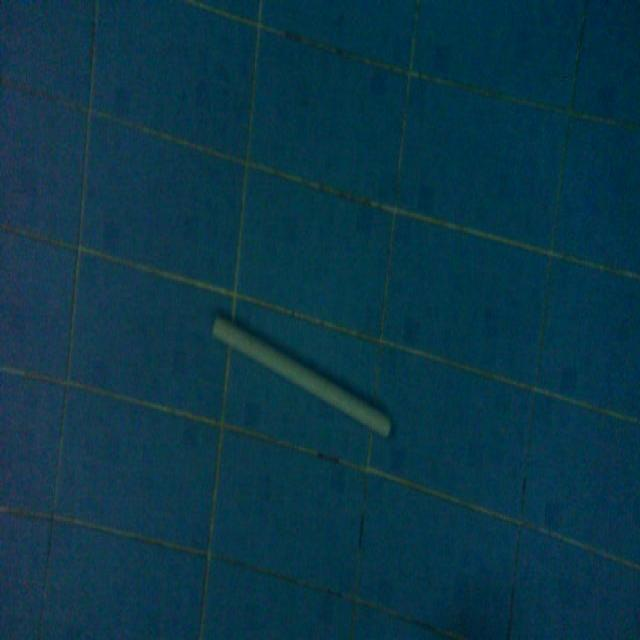Cube: (209, 306, 393, 442)
